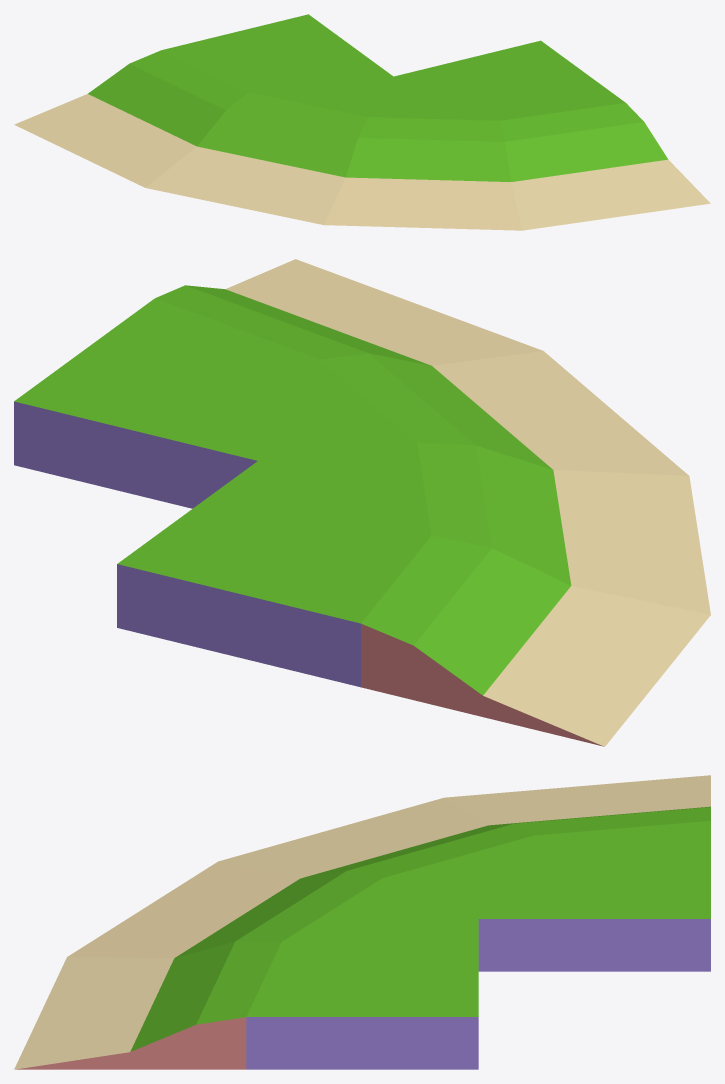
Rendered from Path_Terrain_Basic_Curve_Outer_3x3.glb.
The picture shows the model from 3 angles, top to bottom: view 1: azimuth 30°, elevation 25°; view 2: azimuth 150°, elevation 25°; view 3: azimuth 270°, elevation 25°; orthographic projection. The views are drawn at different scales.
Visible parts, largest first — view 1: Path_Terrain_Basic_Curve_Outer_3x3; view 2: Path_Terrain_Basic_Curve_Outer_3x3; view 3: Path_Terrain_Basic_Curve_Outer_3x3.
Boxes of the visible parts, x1,y1,x2,y2 form: Path_Terrain_Basic_Curve_Outer_3x3: (14, 14, 710, 230); Path_Terrain_Basic_Curve_Outer_3x3: (14, 259, 710, 746); Path_Terrain_Basic_Curve_Outer_3x3: (14, 775, 710, 1069).
Bounding box in the file's own units: 300 × 25 × 300.
